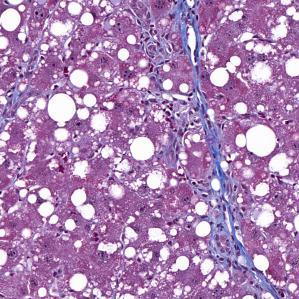fibrosis: (169, 0, 213, 104), (214, 173, 248, 270)
